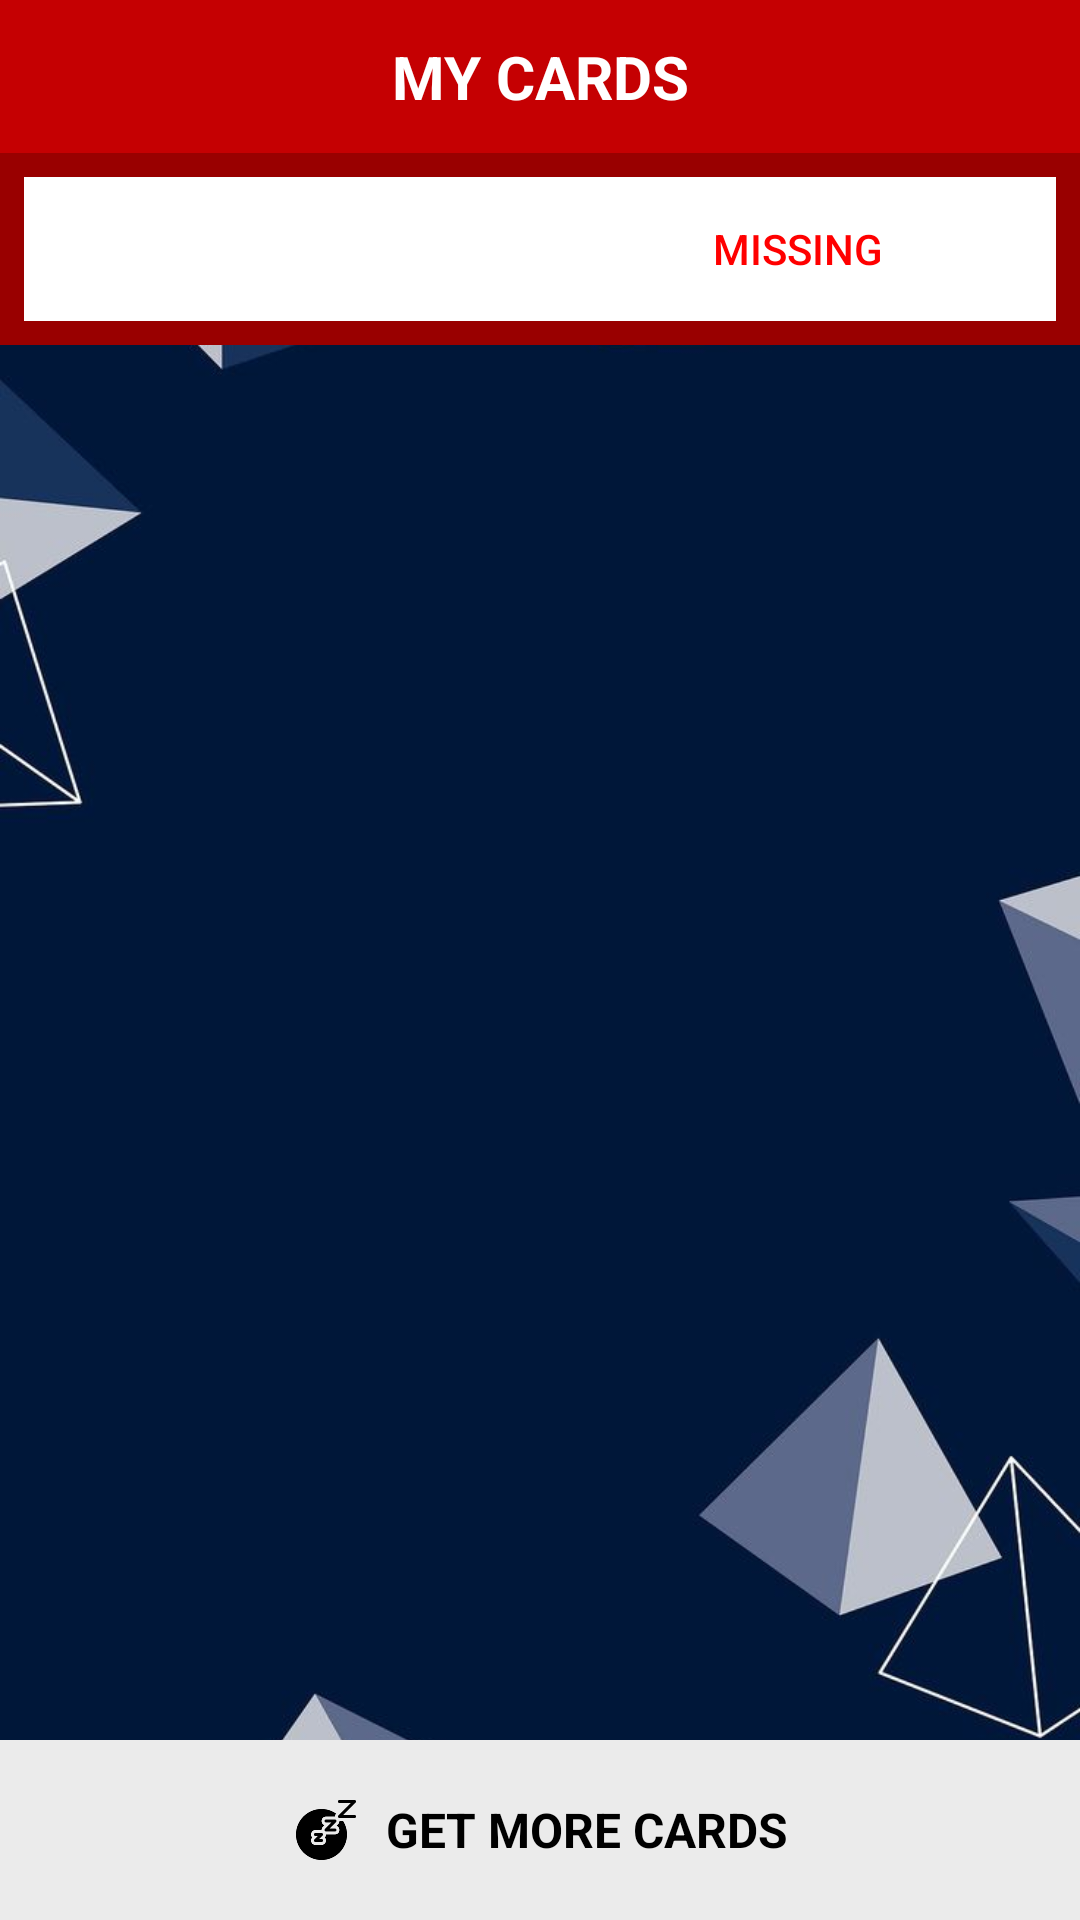

Icon click points for this 1080x1920 phone screenshot, format [x,y]:
afk: [326,1830]
